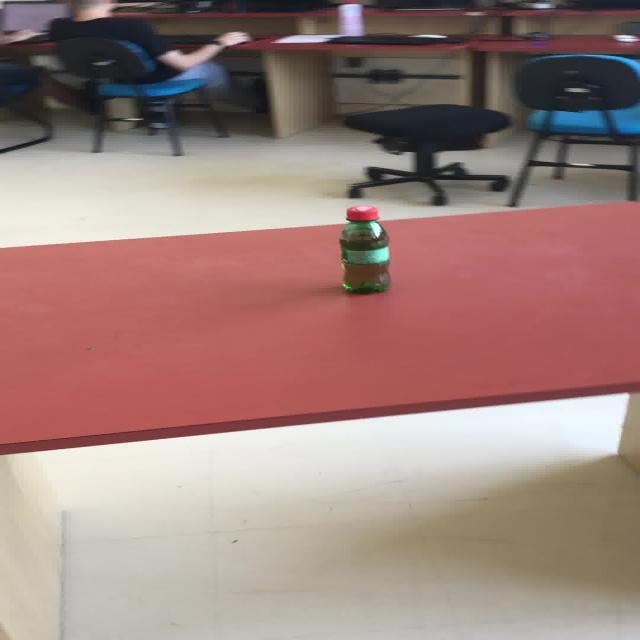guarana: (337, 204, 391, 293)
